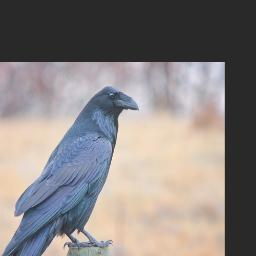Crow: (0, 84, 141, 256)
